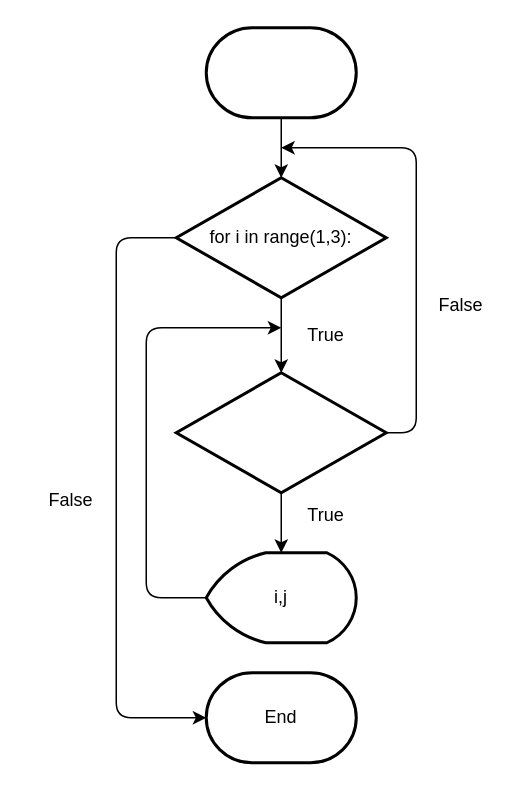
Image size: 531x789. Some labels were removed from this diagram. Each missing label, with the centre of its shape:
"for j in range(2,5):" goes at (x=280, y=432).
"Start" goes at (x=280, y=72).
